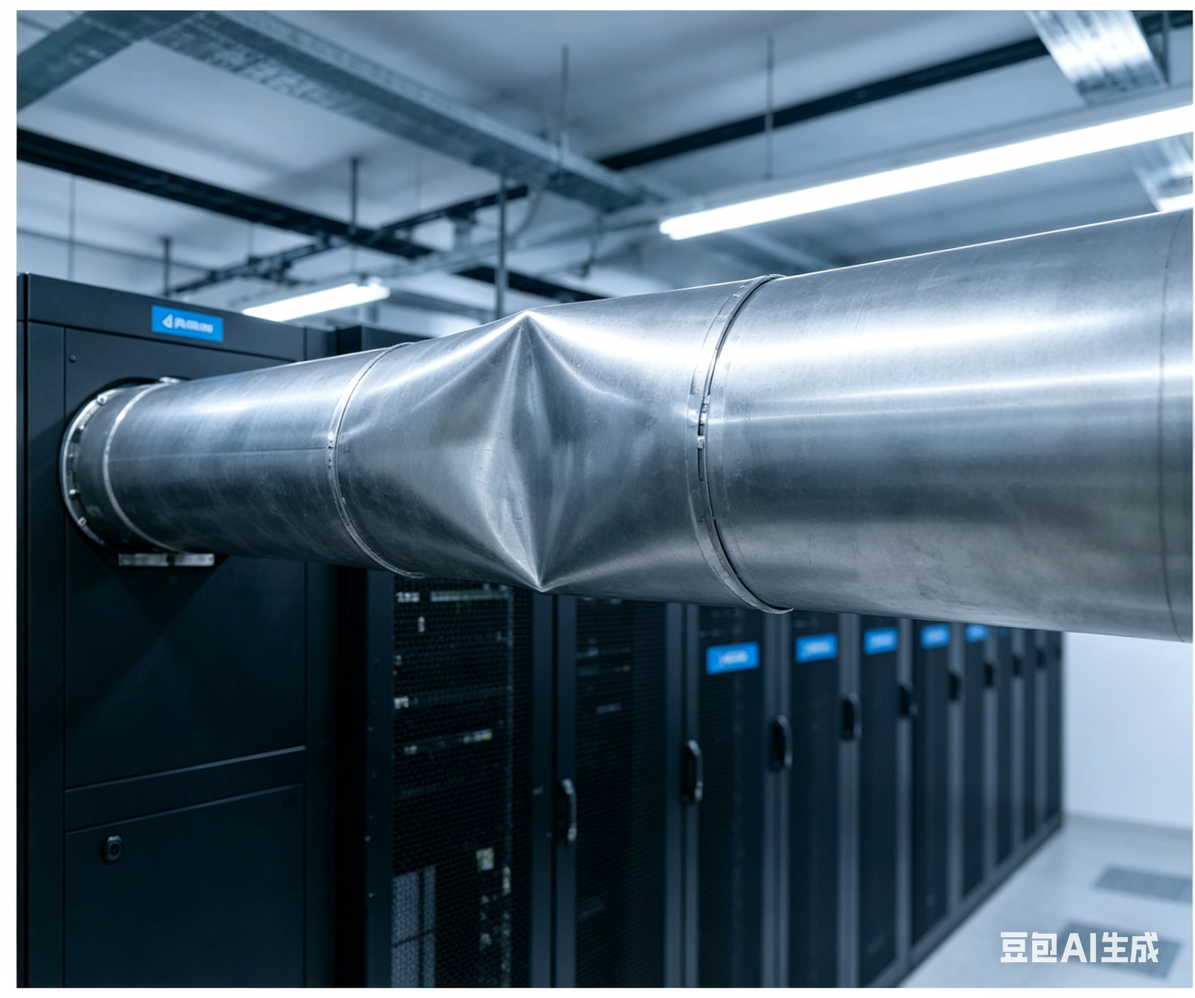Leakage: (407, 312, 643, 584)
